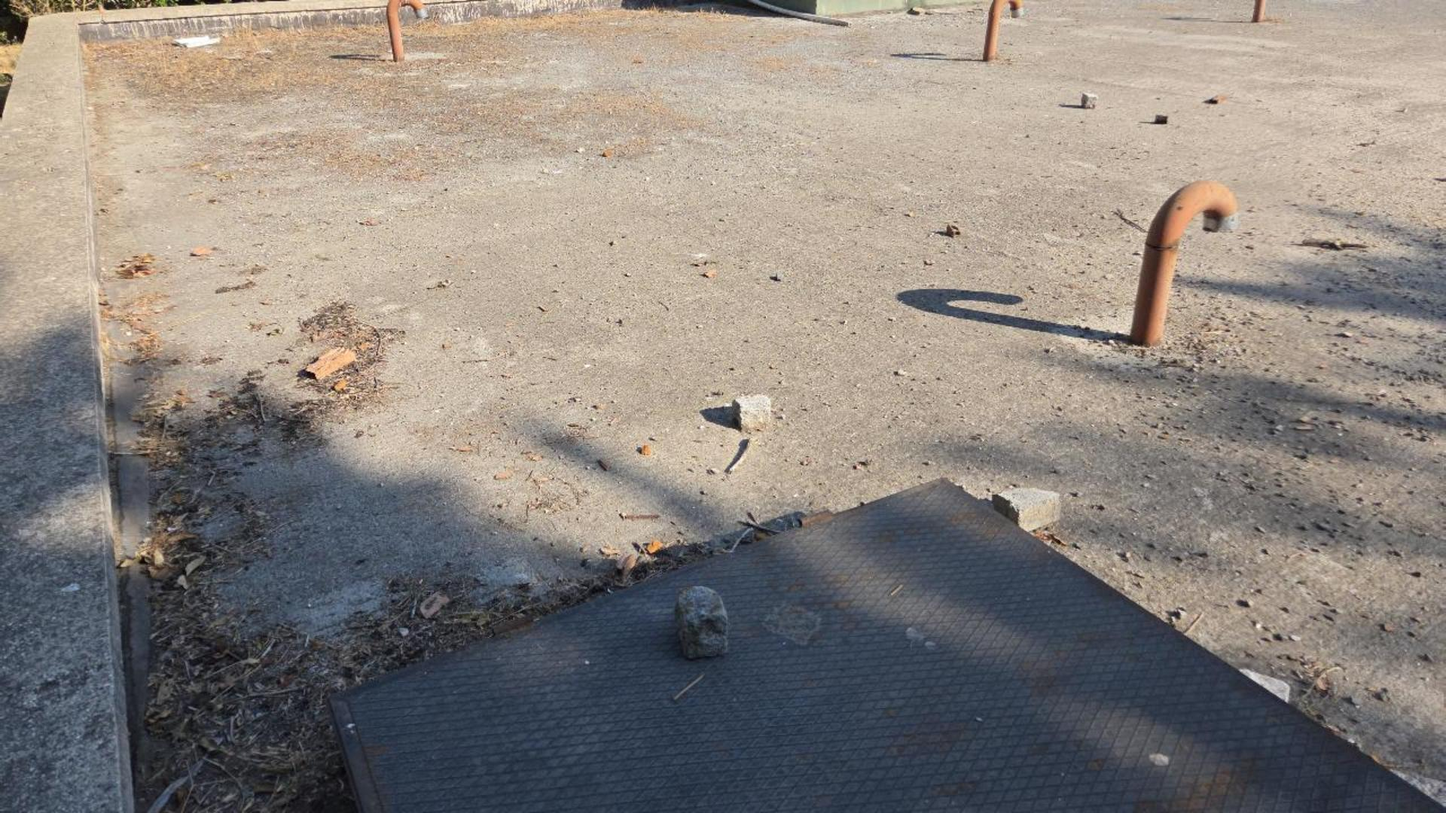rock: (674, 585, 726, 658), (992, 488, 1060, 531), (732, 395, 772, 431), (1081, 93, 1098, 108)
